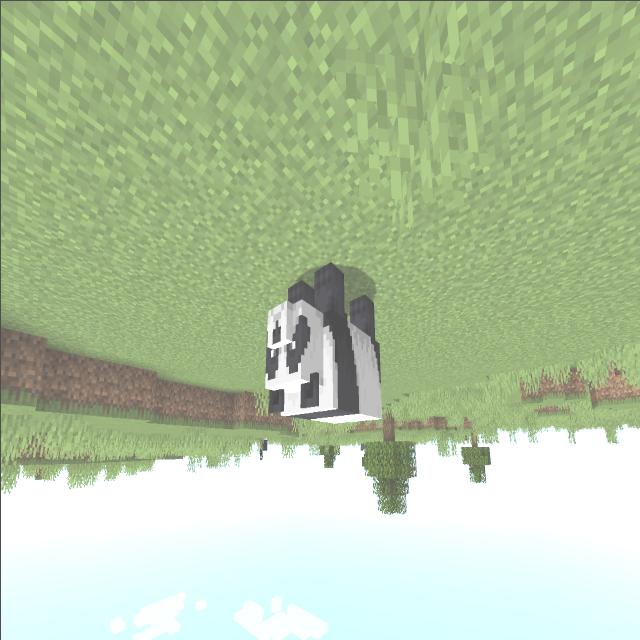Panda: (258, 248, 390, 434)
